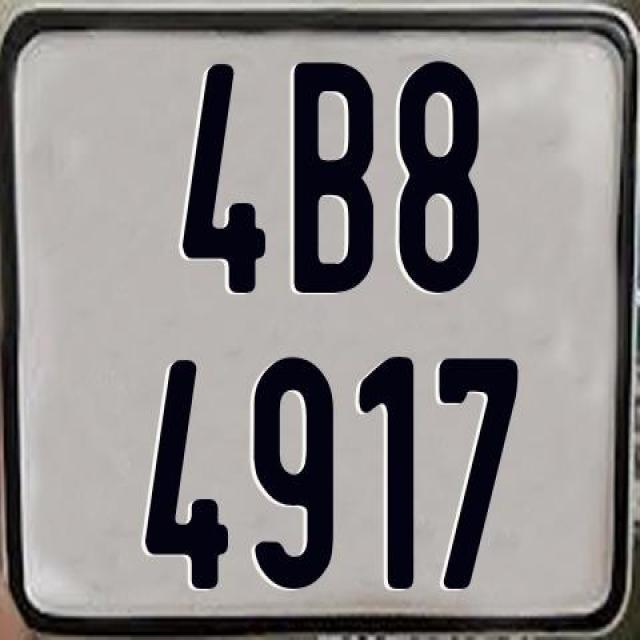1: (357, 354, 412, 586)
4: (145, 360, 236, 598), (180, 59, 266, 298)
7: (438, 358, 522, 592)
8: (397, 58, 480, 296)
9: (252, 357, 339, 592)
B: (294, 61, 378, 301)
